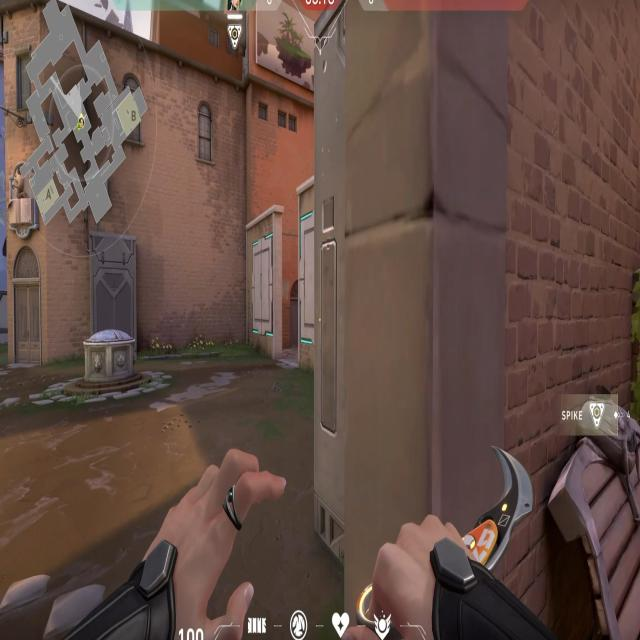Mid_Wall: (249, 230, 278, 348), (298, 210, 316, 356)
